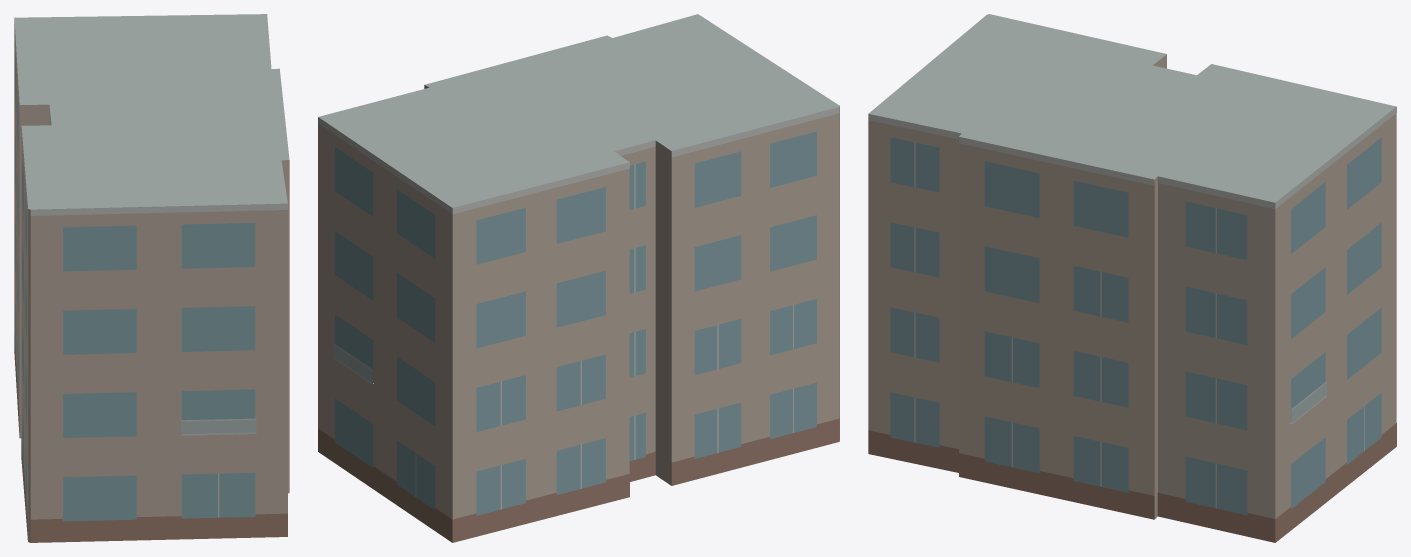
Rendered from survey-upis-32823936.glb.
3 renders of one model, left to right at view 1: azimuth 30°, elevation 25°; view 2: azimuth 150°, elevation 25°; view 3: azimuth 270°, elevation 25°, orthographic. The views are drawn at different scales.
Visible parts, largest first — view 1: survey-upis-32823936.tmp; view 2: survey-upis-32823936.tmp; view 3: survey-upis-32823936.tmp.
Part boxes in pixels (box(x1,y1,x2,y2)): survey-upis-32823936.tmp: box(14, 14, 289, 542); survey-upis-32823936.tmp: box(318, 14, 839, 542); survey-upis-32823936.tmp: box(868, 14, 1396, 542).
Size of the model in its own units: 15.36 by 12.9 by 18.18.
